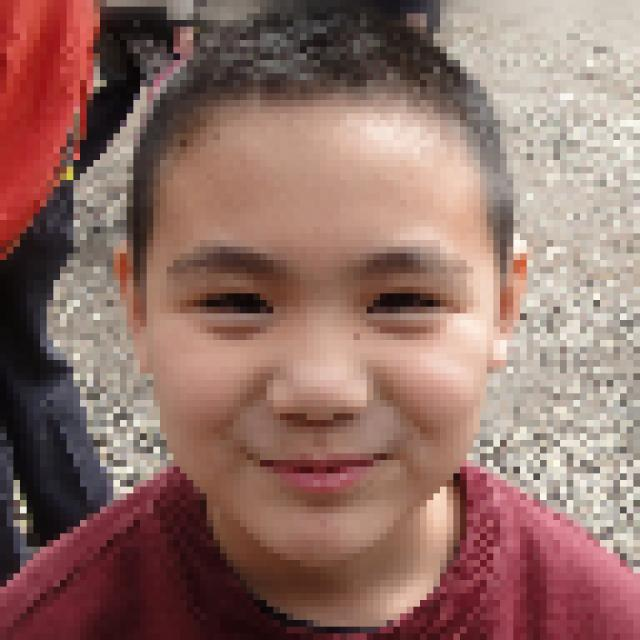happy: (90, 41, 514, 616)
